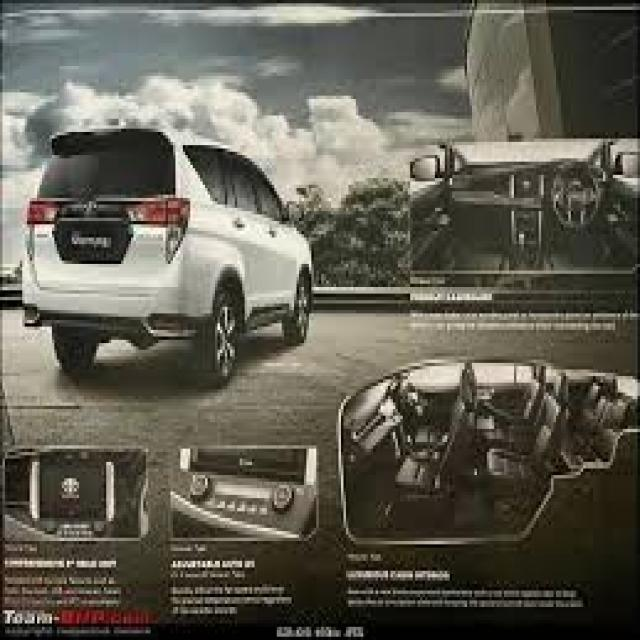light_vehicle: (20, 121, 314, 392)
